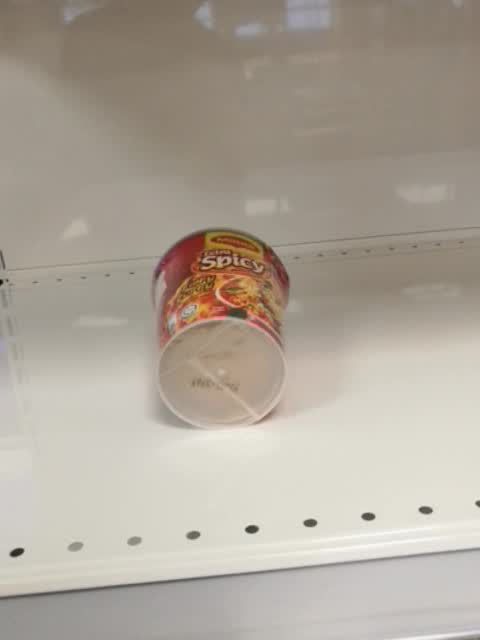maggi: (148, 226, 292, 431)
